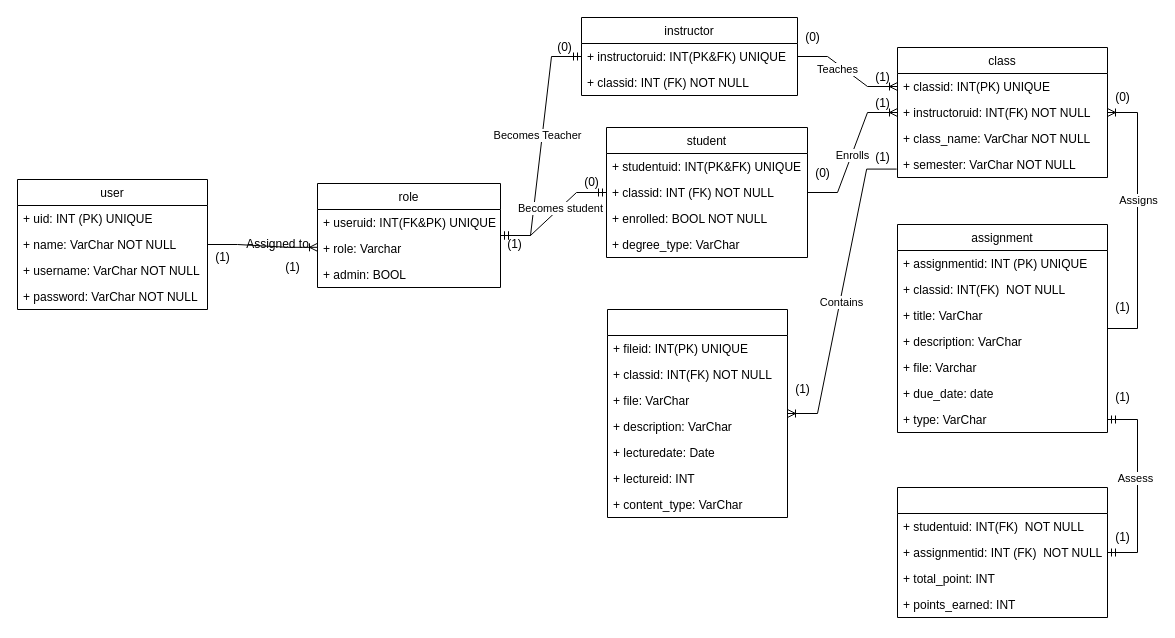
The diagram is 1175 pixels wide and 638 high, and some of its shapes have lost their labels. The shapes that lost their labels are listed below. From the top down, each one's box as (x1, y1, x2, y2) in pixels, then its label:
(606, 308, 788, 518): course_content
(896, 486, 1108, 618): grade
